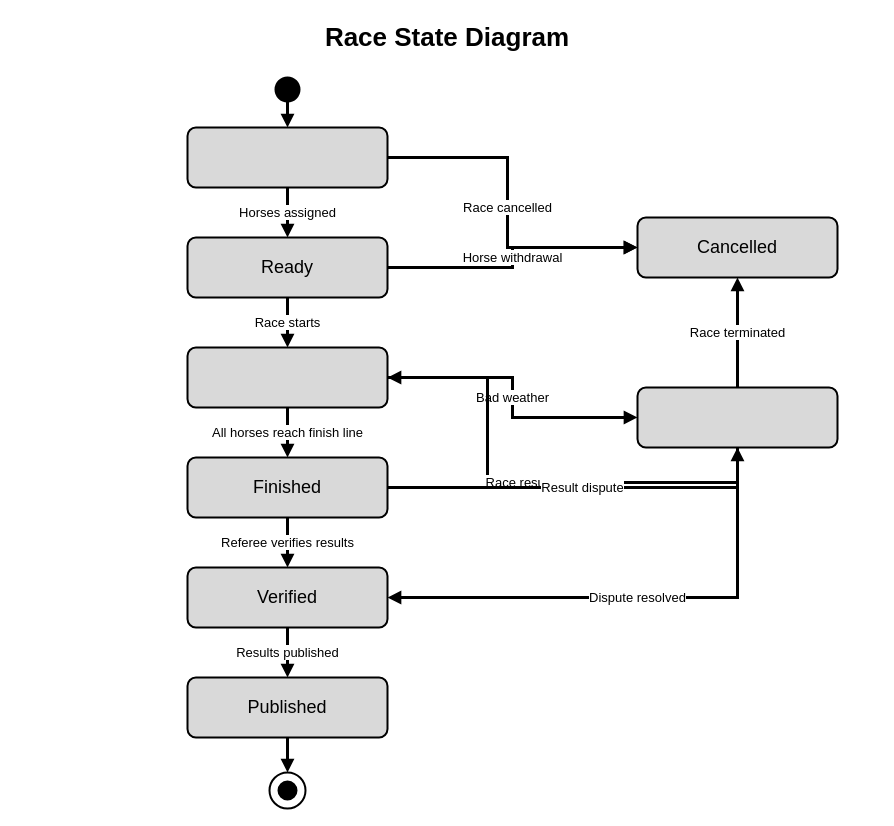
Image size: 894x826. Some labels were removed from this diagram. The shapes that lost their labels are listed below. From the top down, each one's centre as x and y in pixels, then its label:
At (x=287, y=157): "Created".
At (x=287, y=377): "Running".
At (x=737, y=417): "Suspended".
